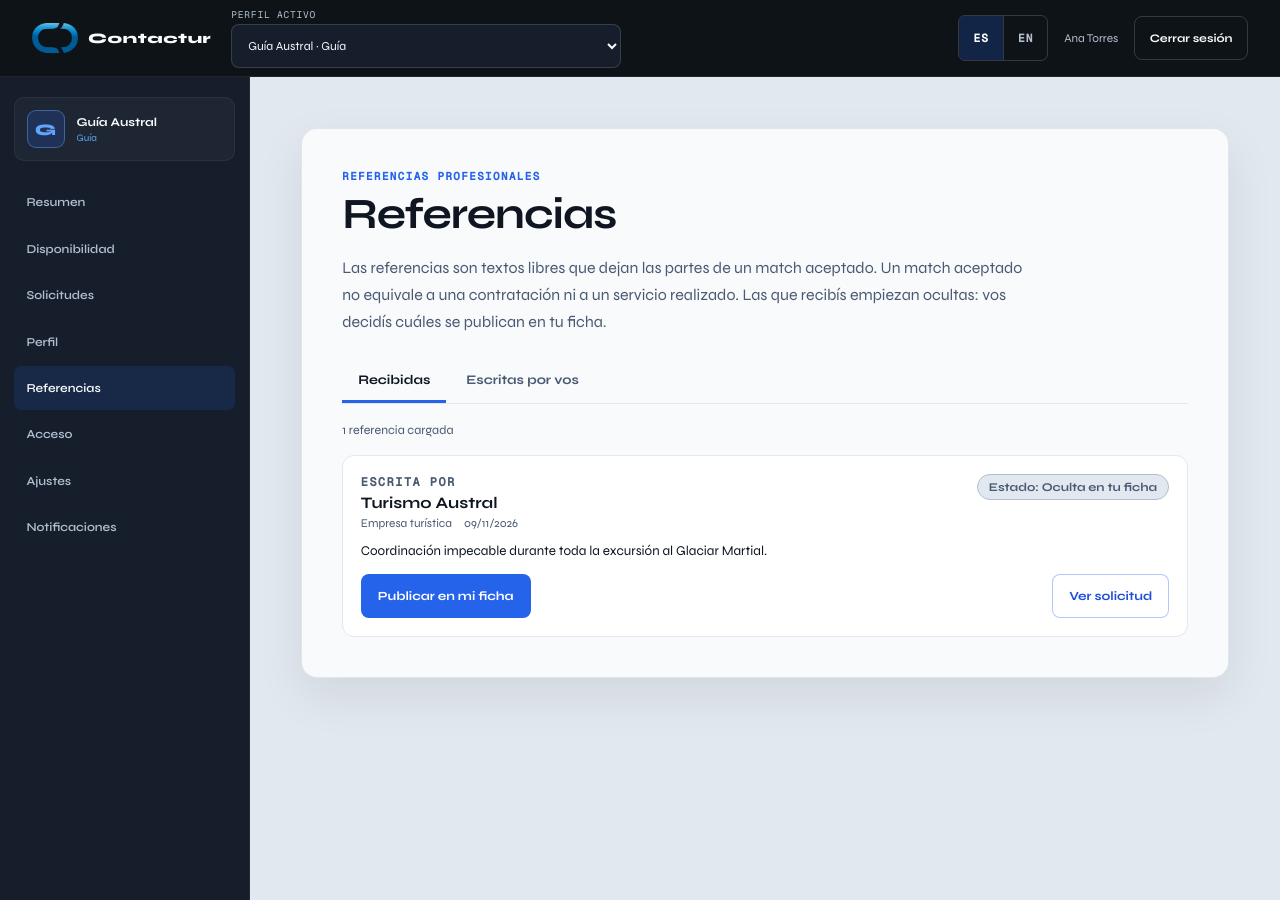
Test case: T20 — publicar u ocultar en la ficha › ante 409 reference_moderated explica, revierte y relee el listado
The width and height of the screenshot is (1280, 900).
Expected: the heading "Referencias" is shown, [342,188,616,240]
Click the button "Publicar en mi ficha" at (446, 596), box [361,574,530,618]
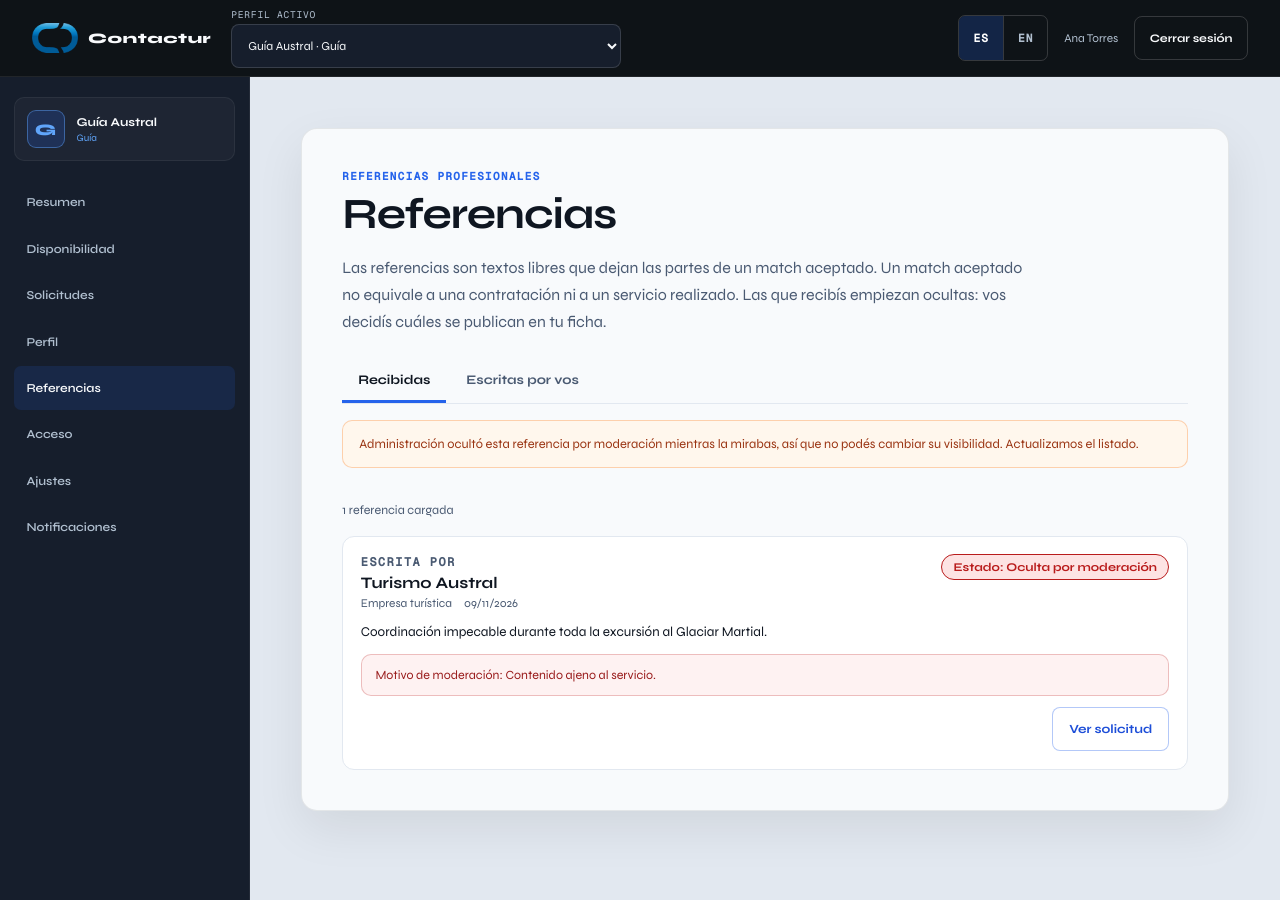
Expected: the text "Administración ocultó esta referencia por moderación mientras la mirabas" is shown, [359,436,1139,452]
Expected: the text "Motivo de moderación: Contenido ajeno al servicio." shows "Estado: Oculta por moderación", [953,560,1157,574]
Expected: the button "mi ficha" is gone
